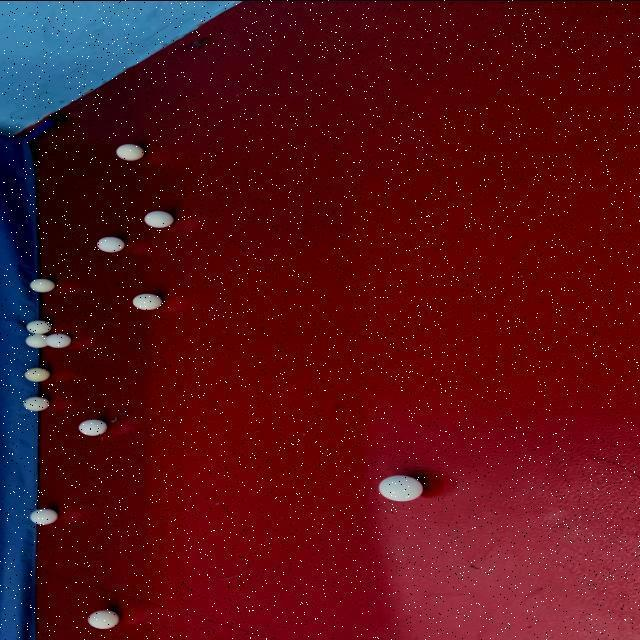ping-pong-ball: (372, 471, 438, 508), (78, 604, 133, 630), (69, 414, 111, 441), (22, 502, 64, 528), (108, 138, 150, 164), (126, 290, 168, 312), (21, 273, 62, 295), (91, 232, 129, 255), (140, 206, 178, 229), (42, 329, 74, 352), (20, 364, 54, 382), (21, 394, 54, 412), (16, 332, 50, 348), (22, 318, 56, 332)
